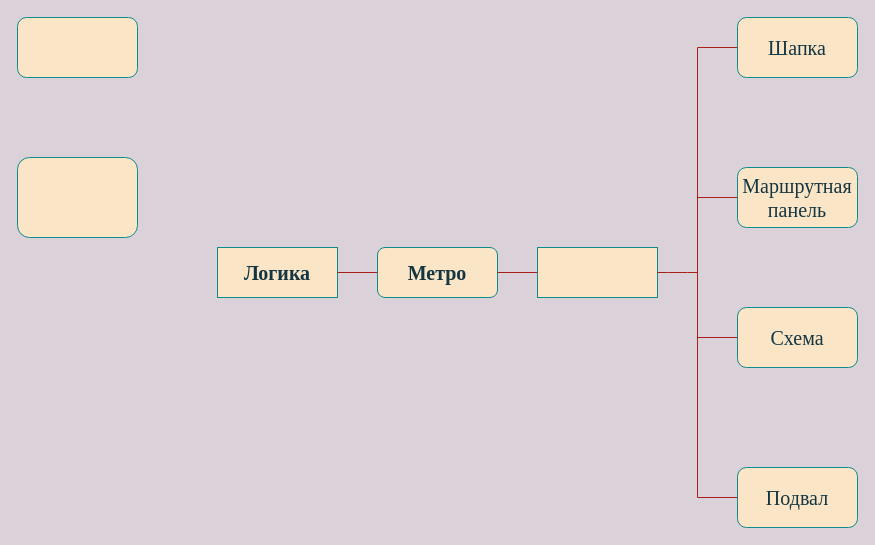
Image size: 875x545. Some labels were removed from this diagram. Each missing label, with the centre of its shape:
Интерфейс: the point at 597,272
Схема метро: the point at 77,47
Форма выбора маршрута: the point at 77,197
